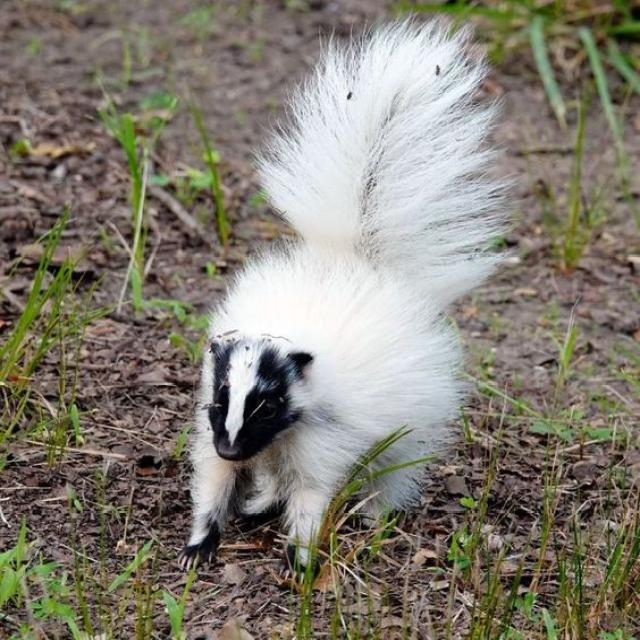Skunk: (161, 8, 528, 582)
